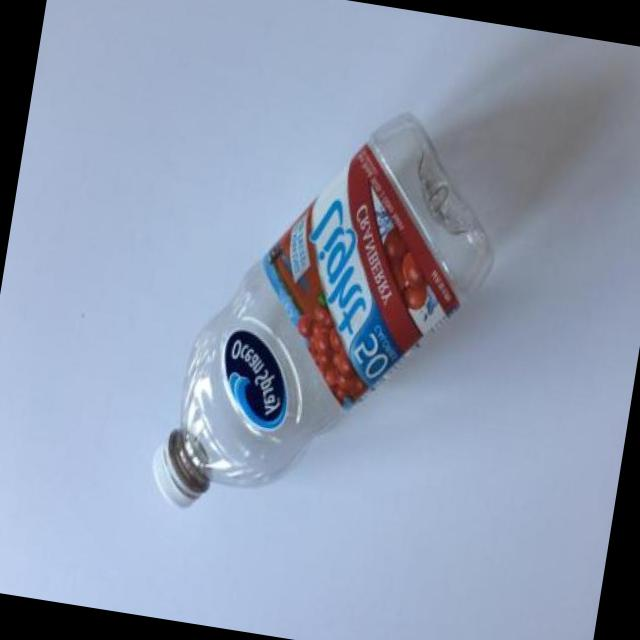plastic_bottle: (145, 74, 516, 551)
